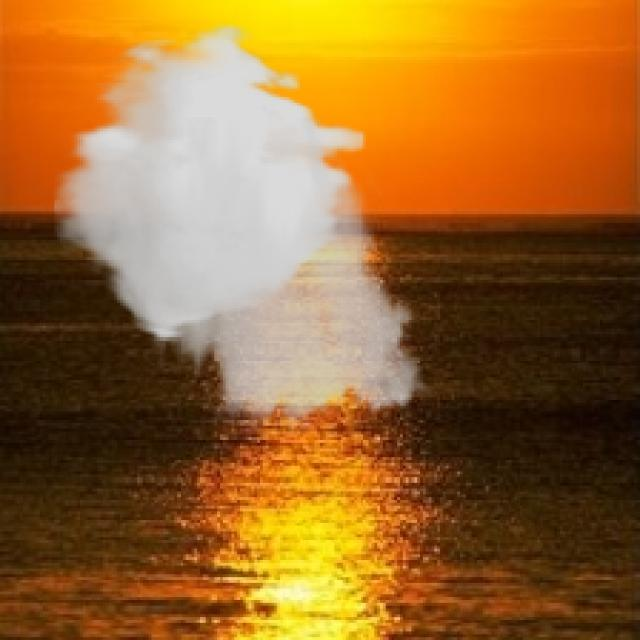smoke: (54, 23, 437, 437)
